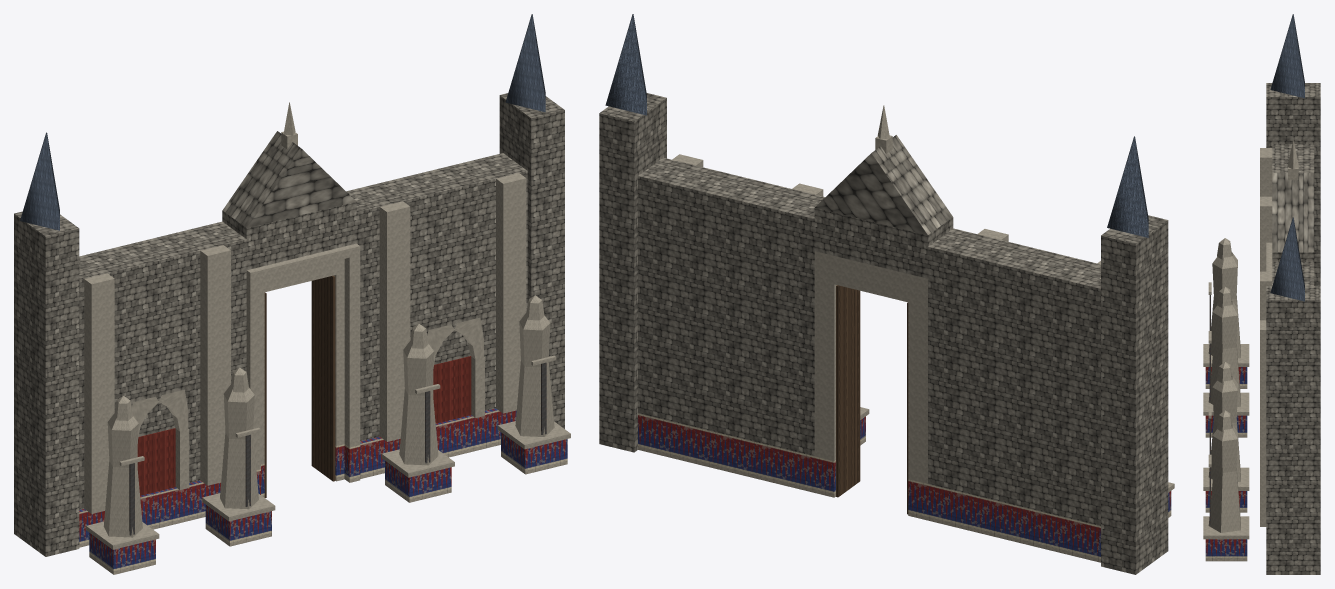
Rendered from Palace_Imperial_Facade_1_LOD2.gltf.
The picture shows the model from 3 angles, left to right: view 1: azimuth 30°, elevation 25°; view 2: azimuth 150°, elevation 25°; view 3: azimuth 270°, elevation 25°; orthographic projection. The views are drawn at different scales.
Parts seen in each view (by area): view 1: Palace_Imperial_Facade_1_LOD2; view 2: Palace_Imperial_Facade_1_LOD2; view 3: Palace_Imperial_Facade_1_LOD2.
Boxes of the visible parts, x1=… form: Palace_Imperial_Facade_1_LOD2: x1=14, y1=14, x2=570, y2=574; Palace_Imperial_Facade_1_LOD2: x1=599, y1=14, x2=1174, y2=574; Palace_Imperial_Facade_1_LOD2: x1=1203, y1=14, x2=1320, y2=574.
Bounding box in the file's own units: 49.81 × 37 × 11.2.
Materials: 7 (7 with a texture image).
